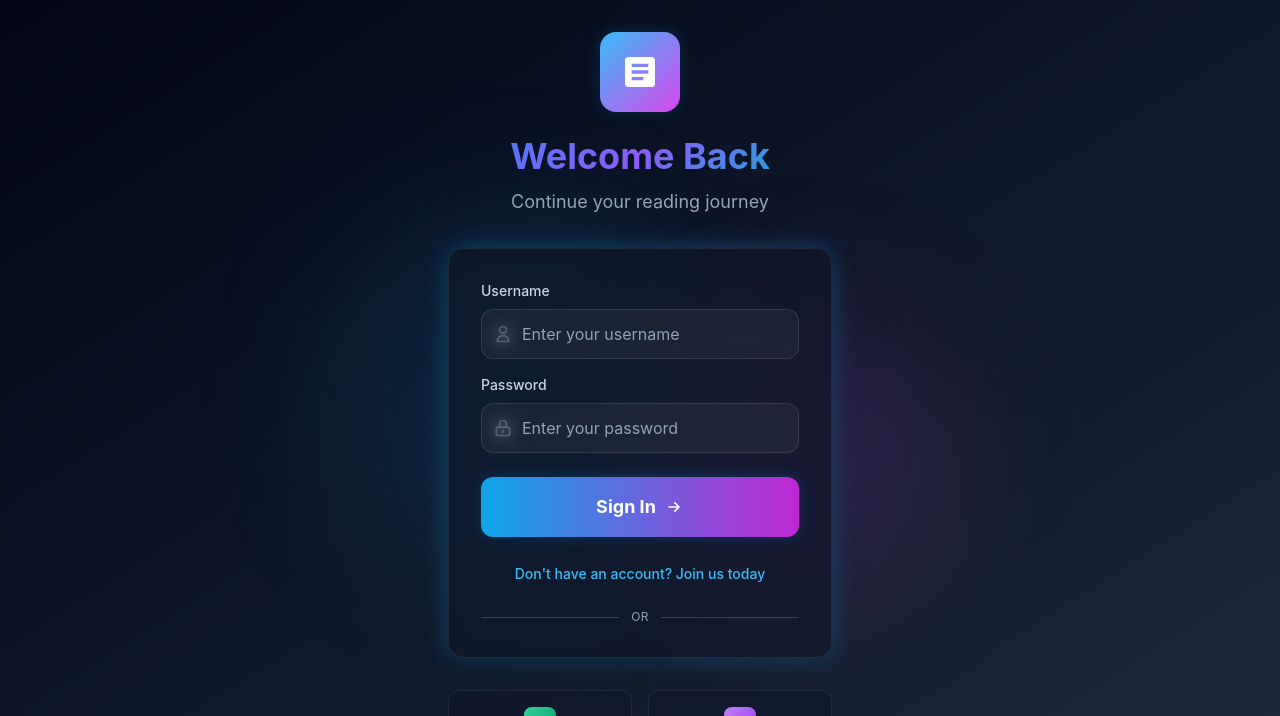
Test: LoginPage sign-in › does NOT sign in when the response carries no access token
In the field with placeholder "Enter your username": (640, 334) [481,309,799,359], type "Akshat"
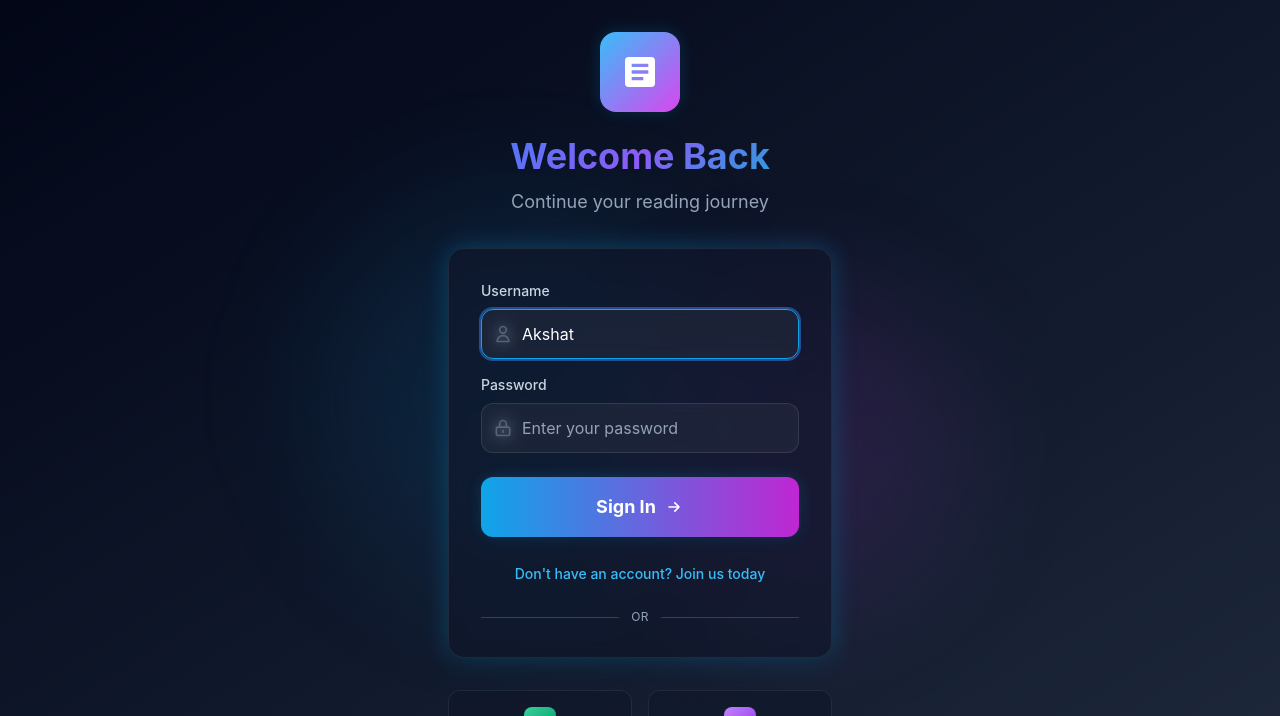
In the password field with placeholder "Enter your password": (640, 428) [481,403,799,453], type "correct-password"
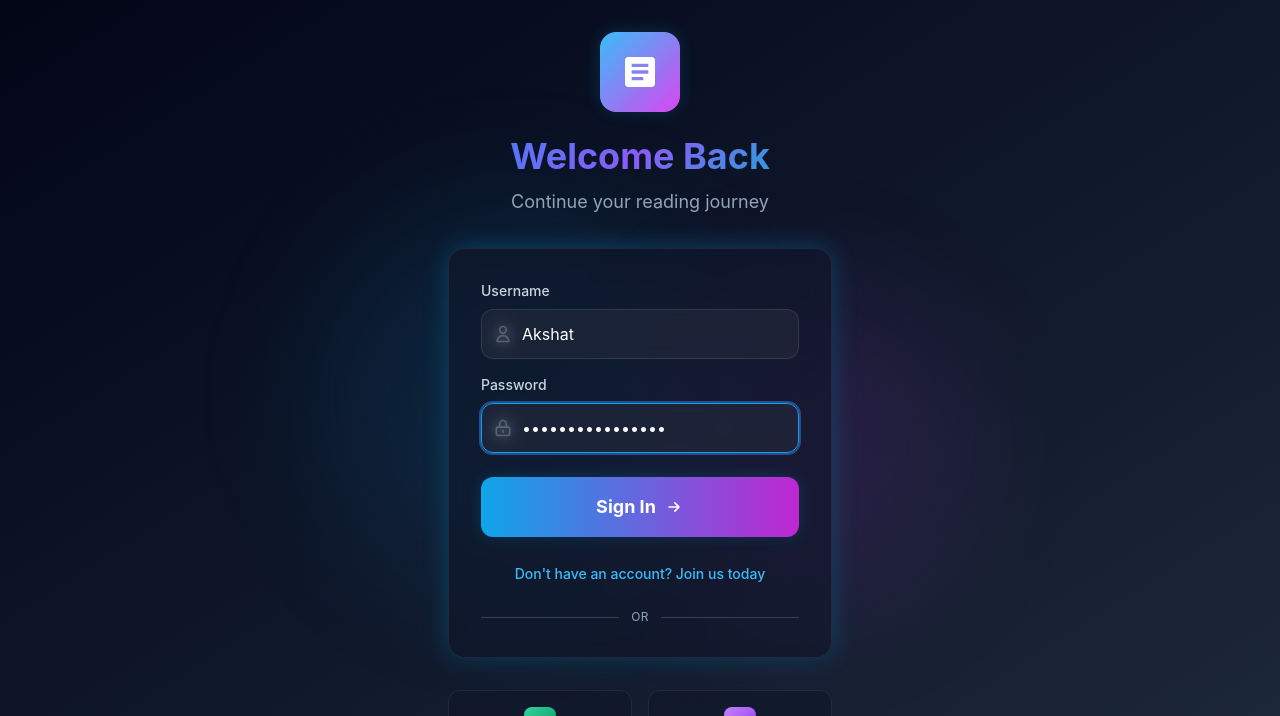
Click the button "Sign In": (640, 507) [481,477,799,537]
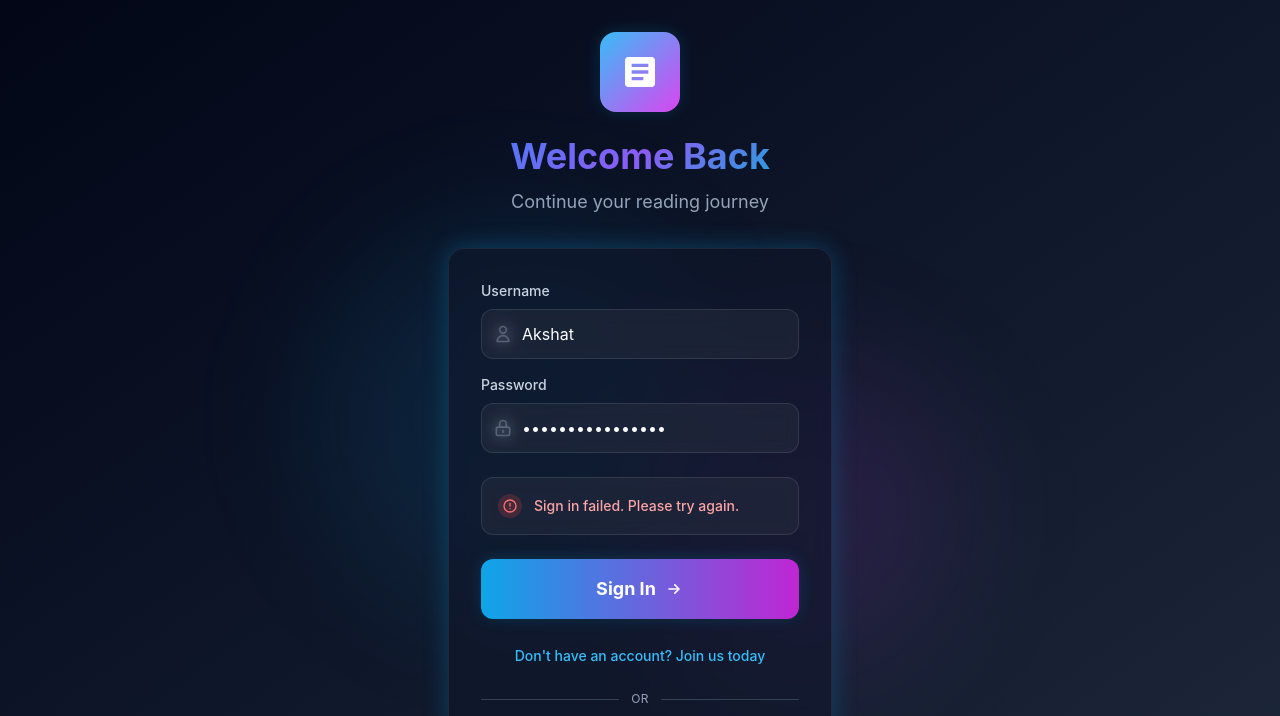
expect the text "Sign in failed. Please try again." is shown: met, box [534,496,739,516]
